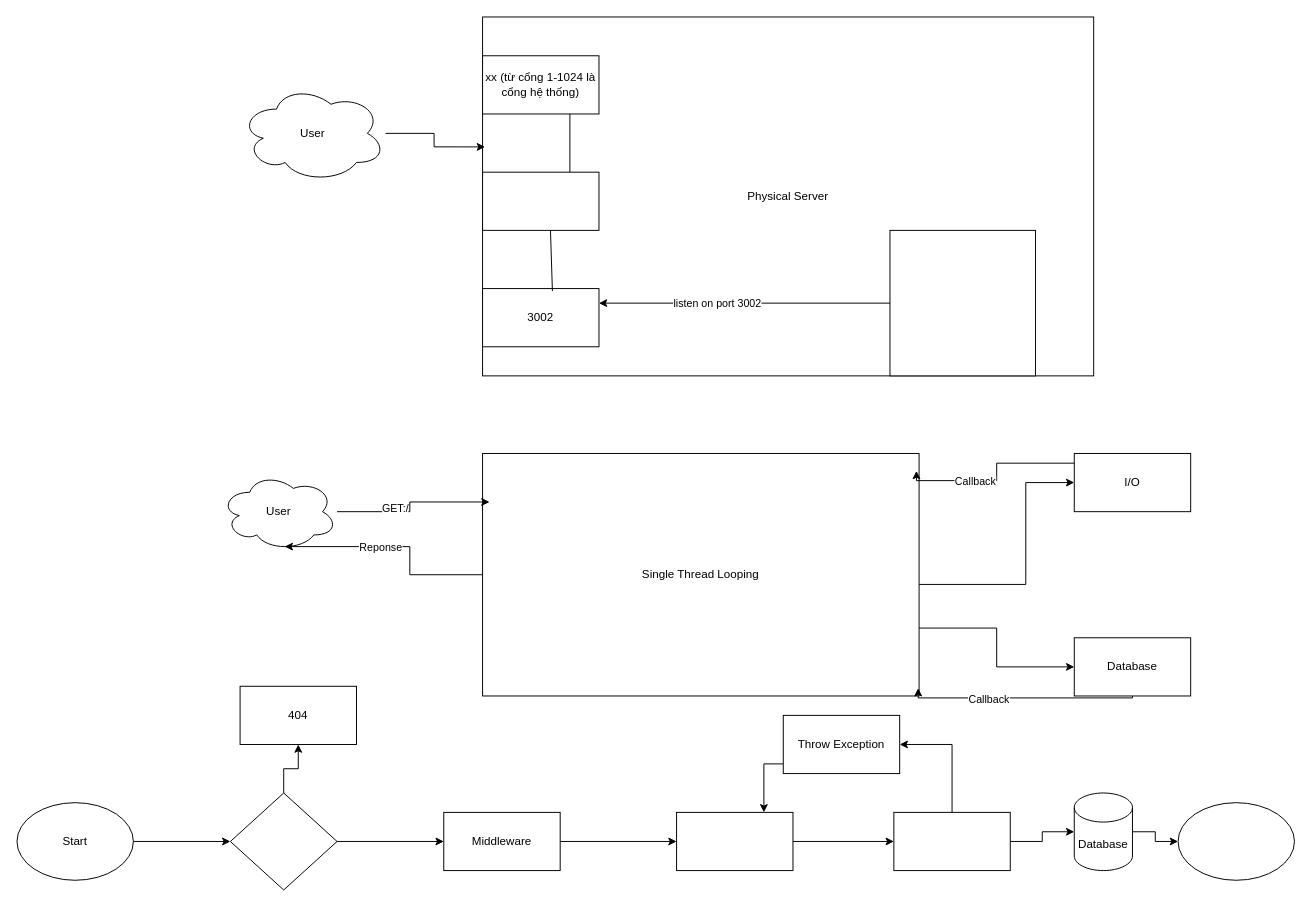
This 1311x907 diagram has some shape labels left out. The centre of each missing label's shape, as x and y in pixels:
"80(cổng 80 là cổng mặc định http) gắn domain" goes at (x=540, y=200).
"Controller" goes at (x=734, y=841).
"End" goes at (x=1235, y=841).
"Express Server NodeJs API" goes at (x=962, y=302).
"Rounting" goes at (x=283, y=841).
"Service" goes at (x=951, y=841).
